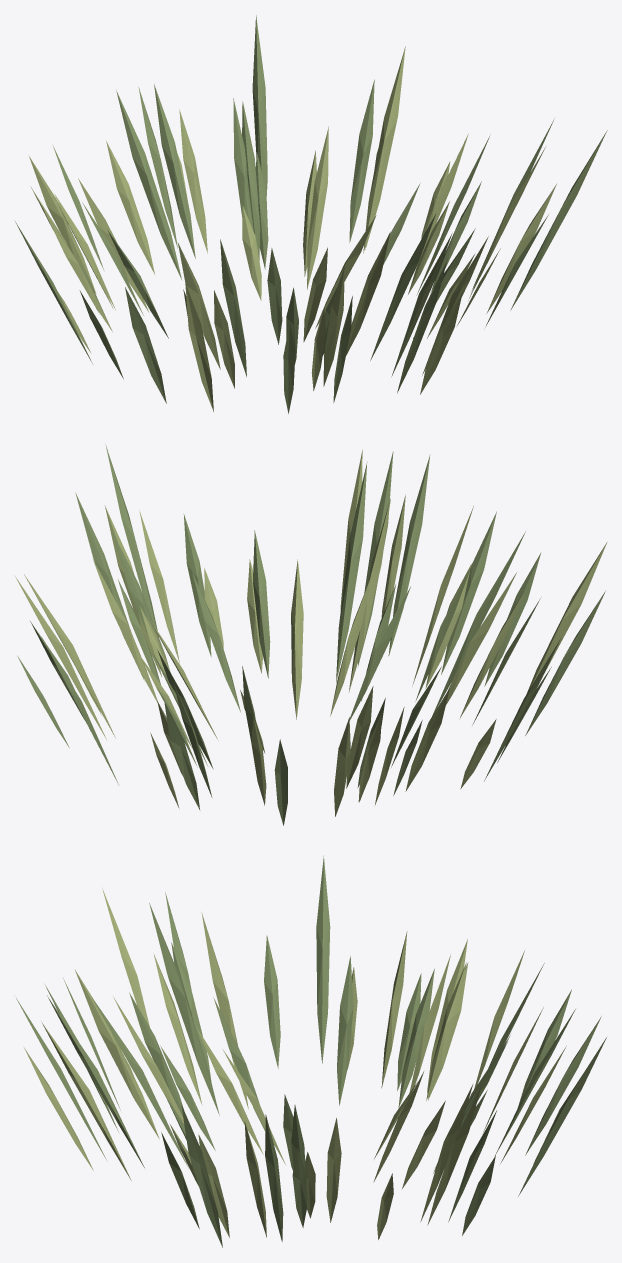
The model's file is Grass2.fbx.
3 renders of one model, top to bottom at view 1: azimuth 30°, elevation 25°; view 2: azimuth 150°, elevation 25°; view 3: azimuth 270°, elevation 25°, orthographic. The views are drawn at different scales.
Visible parts, largest first — view 1: Grass2_LOD0; view 2: Grass2_LOD0; view 3: Grass2_LOD0.
Part boxes in pixels (x1=…): Grass2_LOD0: x1=14, y1=15, x2=607, y2=413; Grass2_LOD0: x1=14, y1=445, x2=607, y2=825; Grass2_LOD0: x1=14, y1=855, x2=606, y2=1247.
Size of what is drawn, in the model's own units: 89.1 by 29.47 by 85.34.
1 material, 1 textured.
